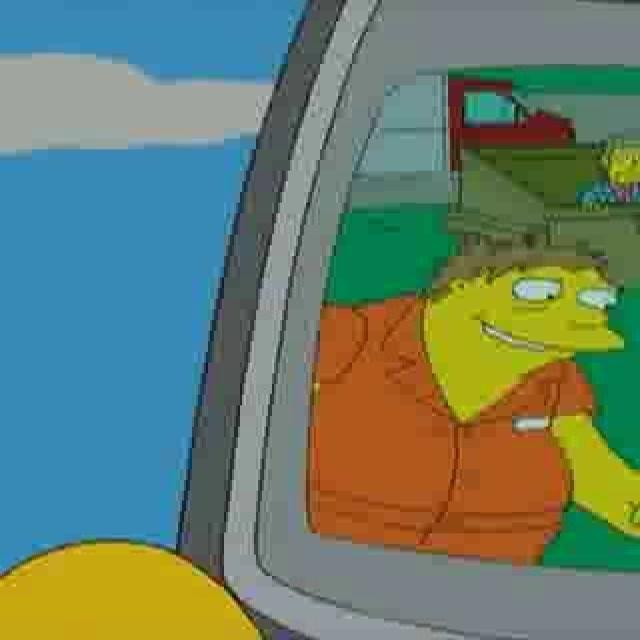Barney Gumble: (422, 232, 630, 396)
